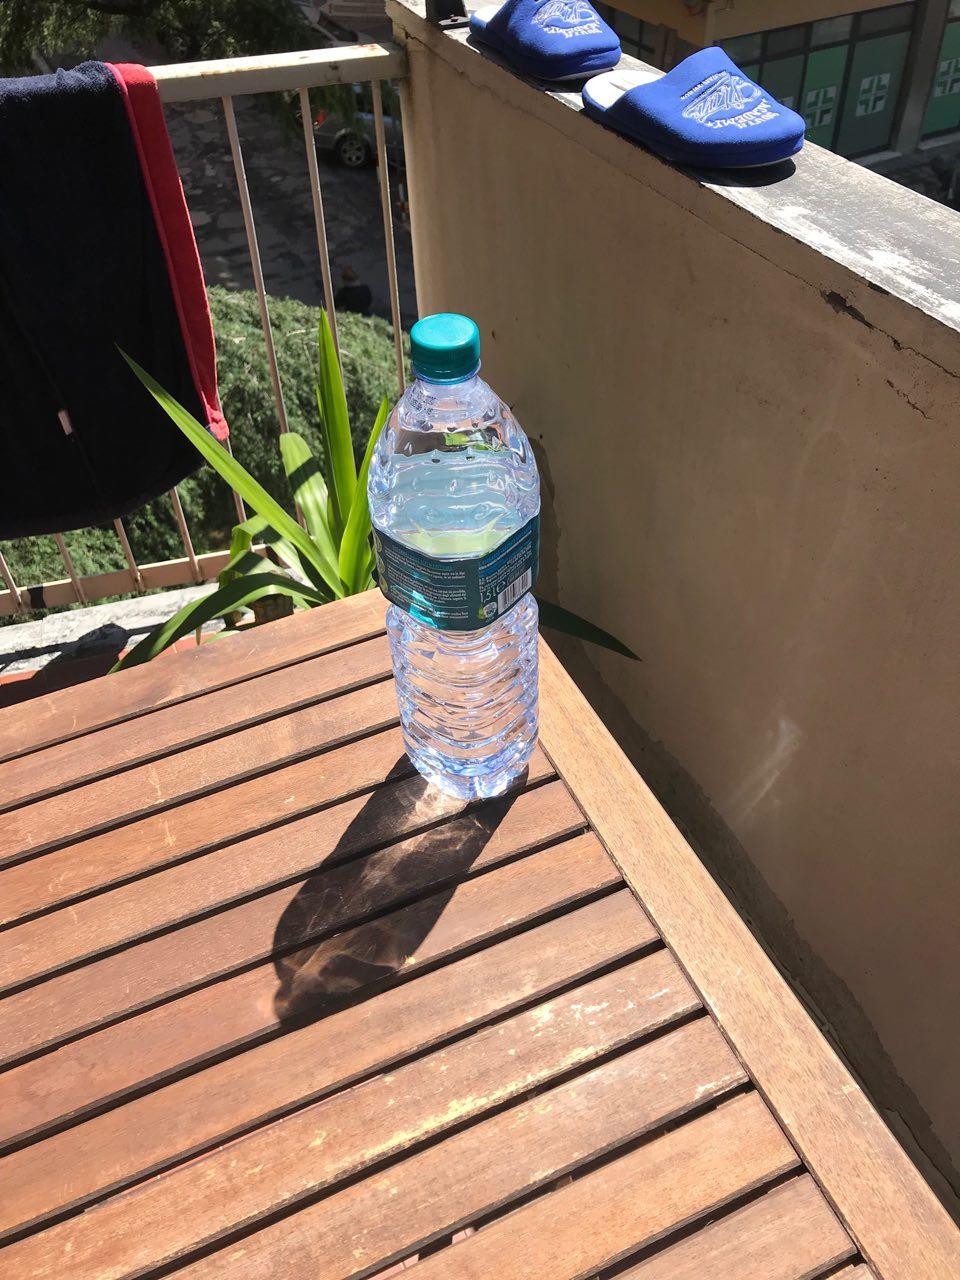san_bernardo: (365, 311, 543, 800)
